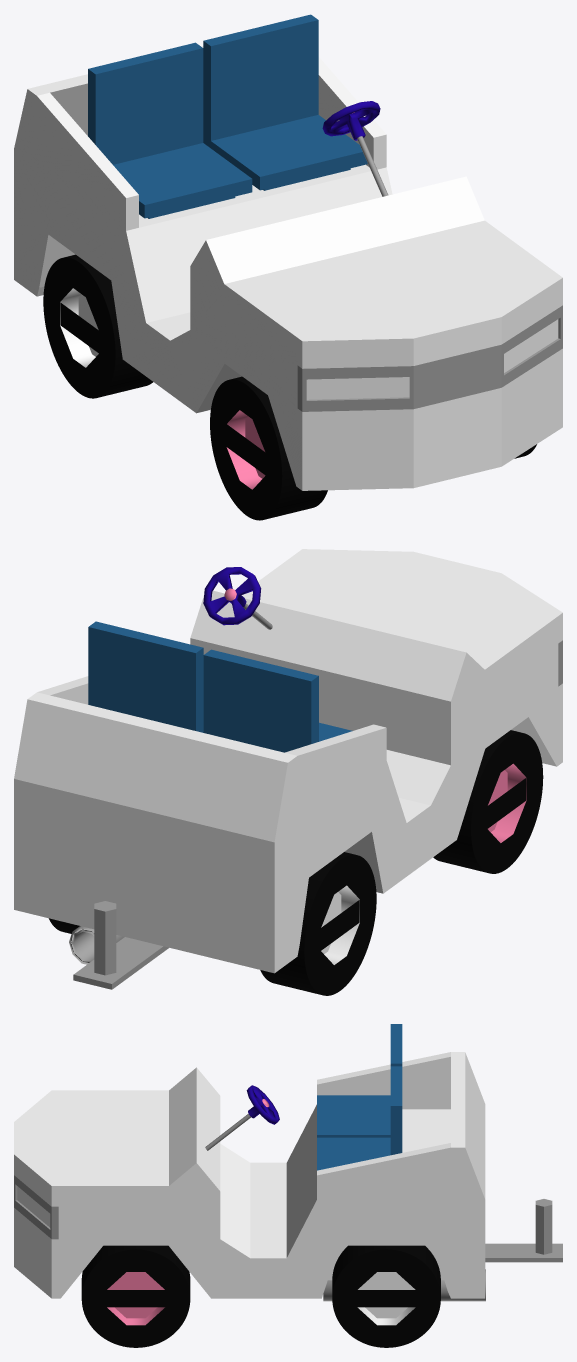
Rendered from LuggerMainChassisDRIFT.fbx.
The picture shows the model from 3 angles, top to bottom: view 1: azimuth 30°, elevation 25°; view 2: azimuth 150°, elevation 25°; view 3: azimuth 270°, elevation 25°; orthographic projection. The views are drawn at different scales.
Visible parts, largest first — view 1: LuggerMainChassisDRIFT, Hood, EngineBay, DriverSeat, PassengerSeat, FrontBumper, BackBrace, FrontRightWheel, RearRightWheel, FrontGrill, BackBumper, RightHeadlight (+2 smaller); view 2: LuggerMainChassisDRIFT, BackBrace, EngineBay, Hood, BackBumper, PassengerSeat, DriverSeat, RearRightWheel, FrontRightWheel, CartPuller, SteeringWheel, FrontBumper (+1 smaller); view 3: LuggerMainChassisDRIFT, Hood, BackBrace, EngineBay, RearLeftWheel, FrontLeftWheel, PassengerSeat, DriverSeat, FrontBumper, CartPuller, BackBumper, FrontGrill (+3 smaller).
Boxes of the visible parts, x1,y1,x2,y2 form: LuggerMainChassisDRIFT: (14, 149, 562, 437); Hood: (224, 220, 562, 368); EngineBay: (190, 176, 484, 407); DriverSeat: (203, 14, 367, 190); PassengerSeat: (88, 42, 252, 218); FrontBumper: (268, 374, 562, 490); BackBrace: (14, 46, 386, 230); FrontRightWheel: (210, 376, 327, 520); RearRightWheel: (43, 254, 152, 398); FrontGrill: (297, 305, 562, 411); BackBumper: (14, 226, 75, 296); RightHeadlight: (306, 377, 409, 399); LuggerMainChassisDRIFT: (14, 683, 562, 919); BackBrace: (14, 676, 386, 842); EngineBay: (190, 590, 558, 765); Hood: (241, 549, 562, 678); BackBumper: (14, 856, 308, 973); PassengerSeat: (203, 649, 352, 752); DriverSeat: (88, 621, 203, 732); RearRightWheel: (260, 852, 376, 995); FrontRightWheel: (433, 730, 543, 873); CartPuller: (73, 901, 168, 989); SteeringWheel: (203, 567, 272, 629); FrontBumper: (511, 709, 562, 766); LuggerMainChassisDRIFT: (14, 1104, 485, 1298); Hood: (14, 1090, 168, 1206); BackBrace: (317, 1052, 485, 1199); EngineBay: (58, 1067, 220, 1239); RearLeftWheel: (332, 1245, 440, 1347); FrontLeftWheel: (81, 1245, 190, 1347); PassengerSeat: (317, 1024, 402, 1137); DriverSeat: (317, 1066, 402, 1170); FrontBumper: (14, 1227, 102, 1298); CartPuller: (485, 1199, 562, 1262); BackBumper: (434, 1245, 485, 1298); FrontGrill: (14, 1175, 58, 1239).
Bounding box in the file's own units: 65.64 × 75.08 × 159.
1 material, 1 textured.
